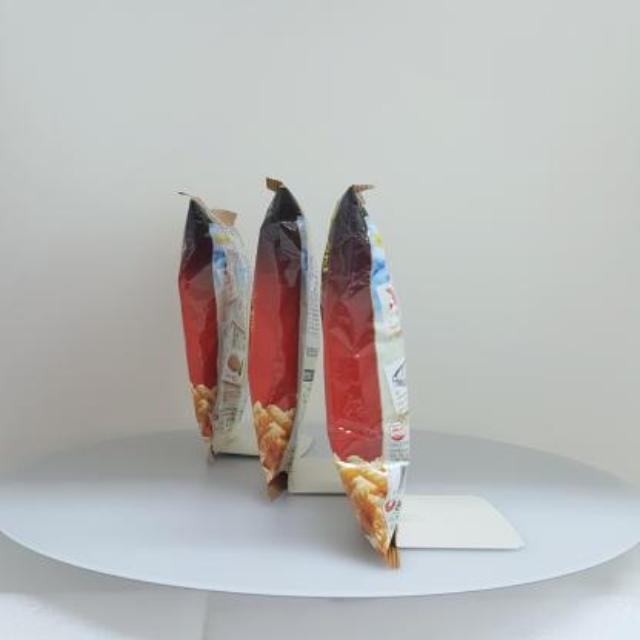snack_bag: (150, 165, 434, 577)
